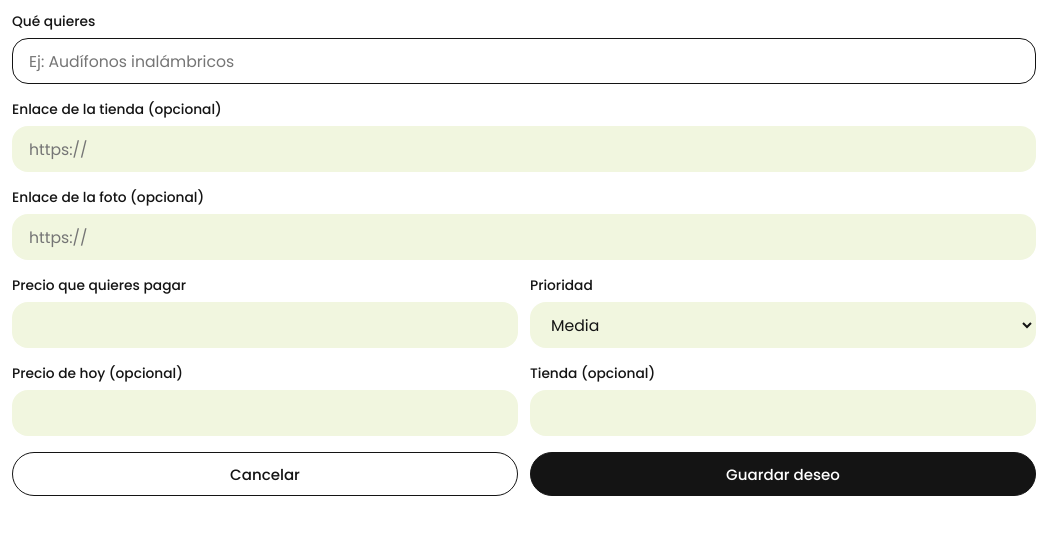
Scenario: DeseoForm › no envía si el enlace no es válido
Type "Tenis" into the field labelled "Qué quieres". click: (524, 61)
box: [12,38,1036,84]
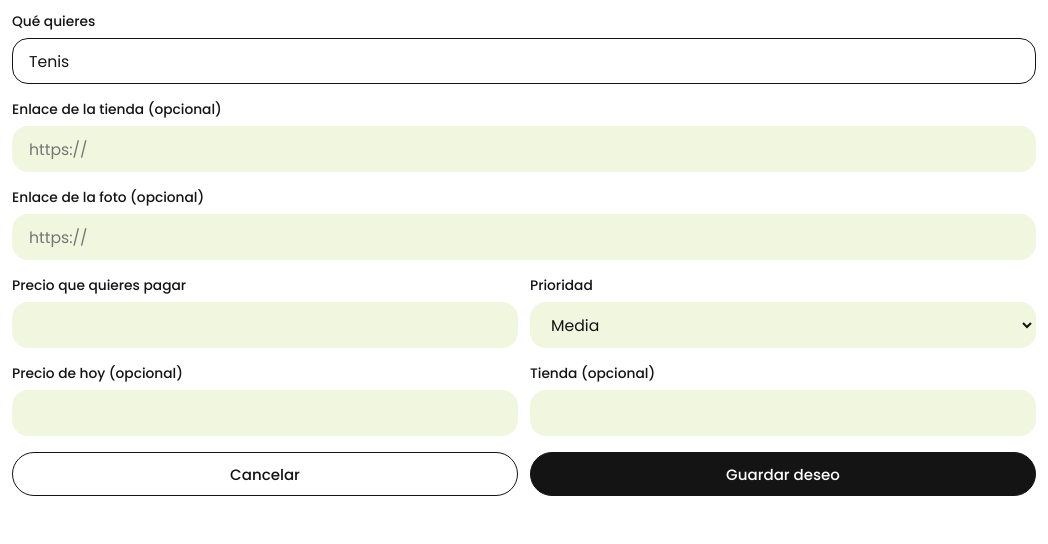
Type "tienda.com" into the field labelled "Enlace de la tienda (opcional)". click: (524, 149)
box: [12,126,1036,172]
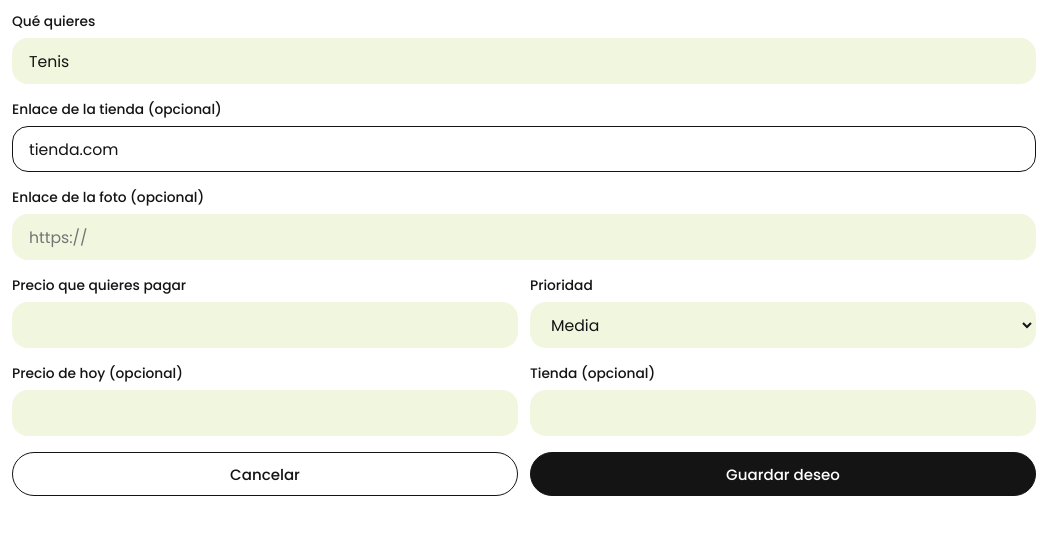
Click the button "Guardar deseo". click: (783, 474)
box: [530,452,1036,496]
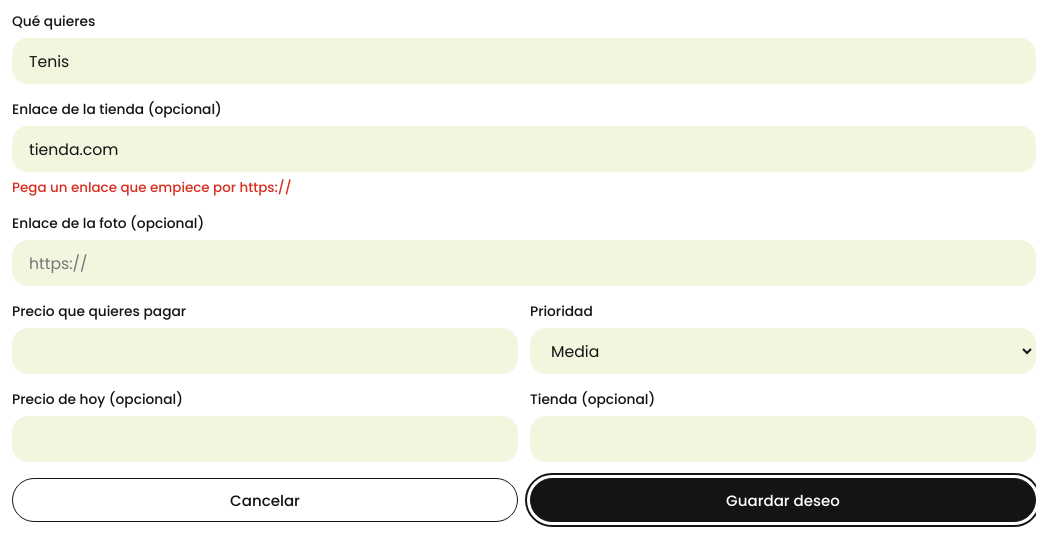
Now the text "Pega un enlace que empiece por https://" is shown, box [12,178,292,197]
